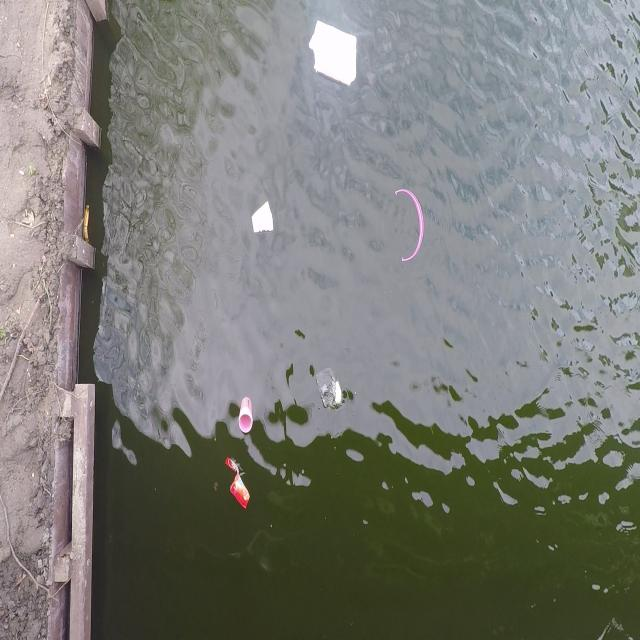Autre plastique: (305, 12, 364, 93), (223, 452, 257, 514), (247, 194, 277, 248), (232, 392, 260, 437)
Sac plastique: (310, 361, 354, 422)
